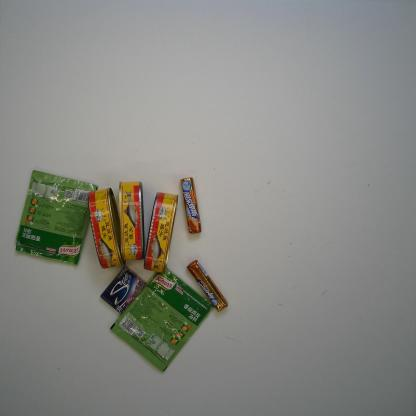Candy: (186, 258, 229, 312), (180, 176, 202, 235)
Canned Food: (87, 187, 127, 269), (142, 192, 178, 275), (118, 180, 146, 262)
Gum: (99, 266, 146, 315)
Seasoner: (109, 266, 214, 373), (15, 169, 98, 266)
